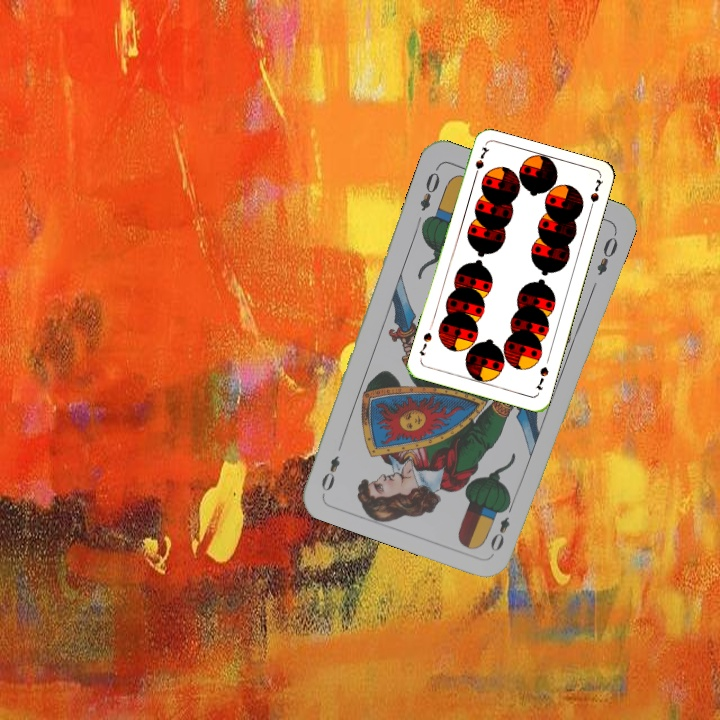EO: (486, 498, 517, 555), (416, 163, 443, 214)
S7: (470, 143, 492, 182), (531, 362, 551, 393)
